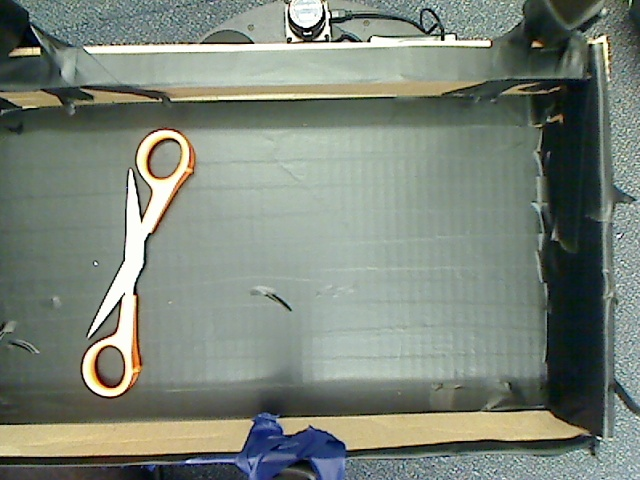scissors: (67, 113, 211, 408)
